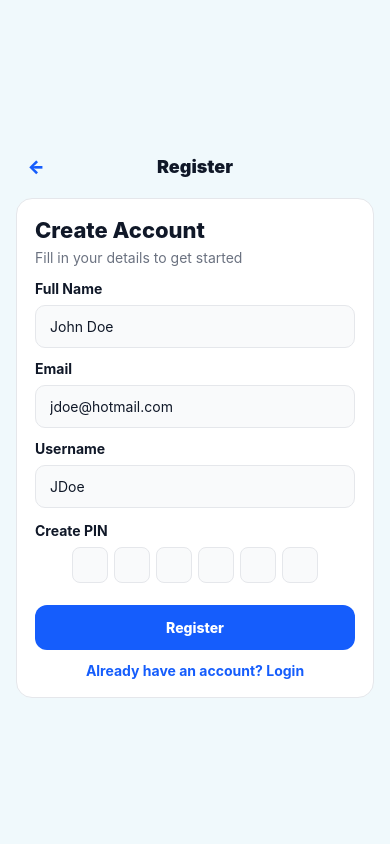
Test case: Integration: Registration Flow › validates required fields before submission
Note: Clear one of the fields to trigger validation
Clear the field showing "John Doe": [195, 326] box [35,305,355,348]
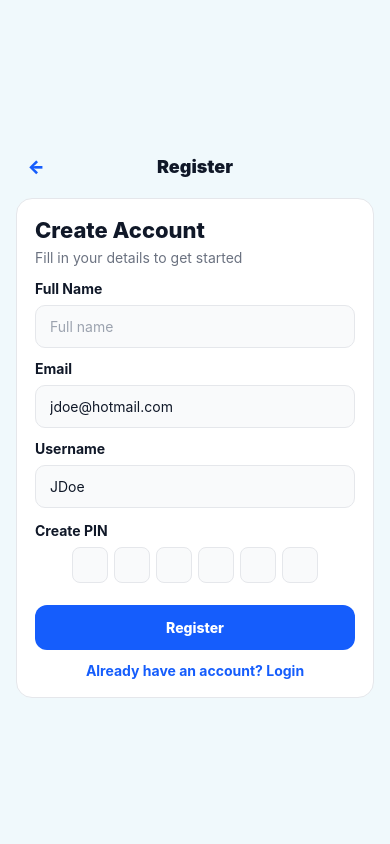
Note: Try to submit - use accessibility label to get the button specifically
Click the button labelled "Register": [195, 628] box [35,605,355,650]
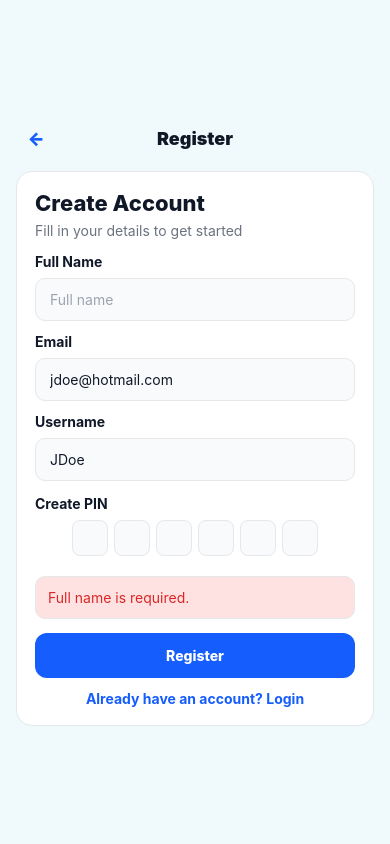
Expected: the text "Full name is required." is shown, [48,588,189,606]
